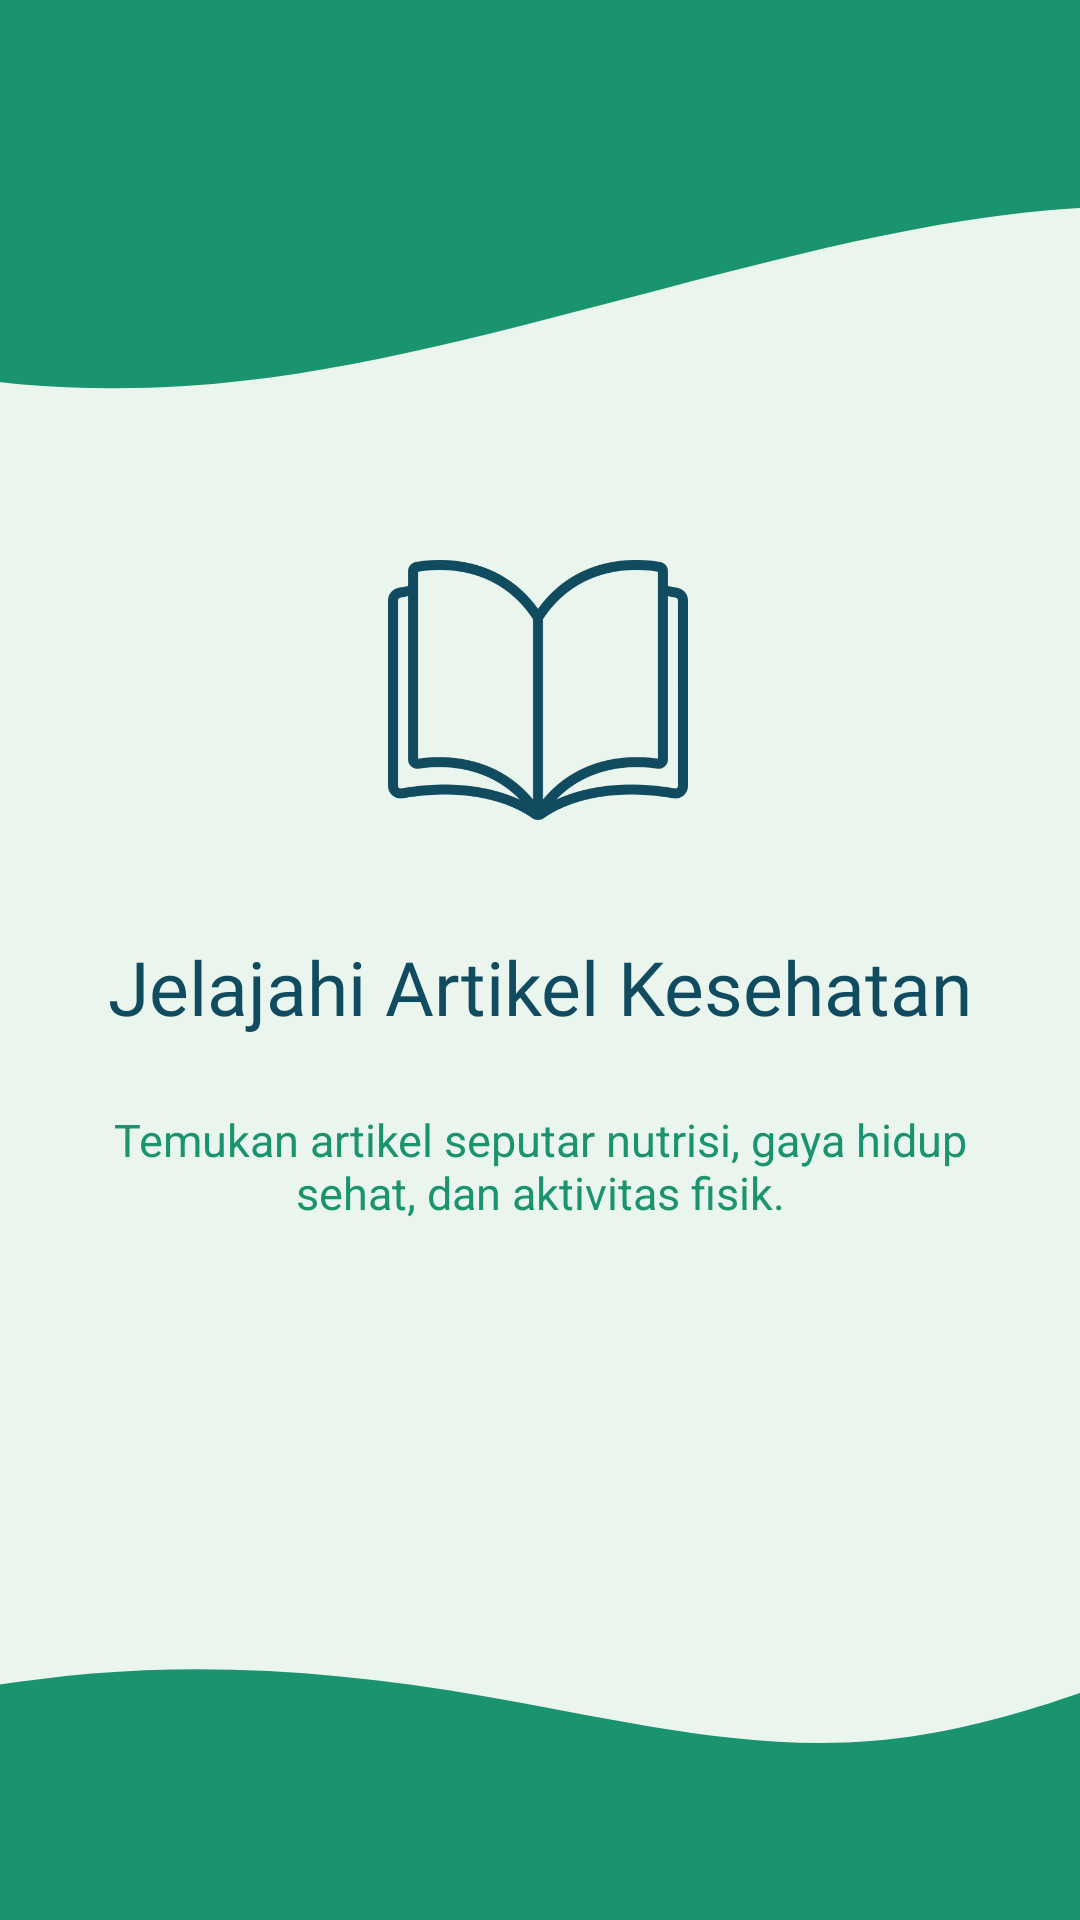

Named icons in this screenshot (1080×1920) and their centers, [x,y]:
open book: [538,690]
